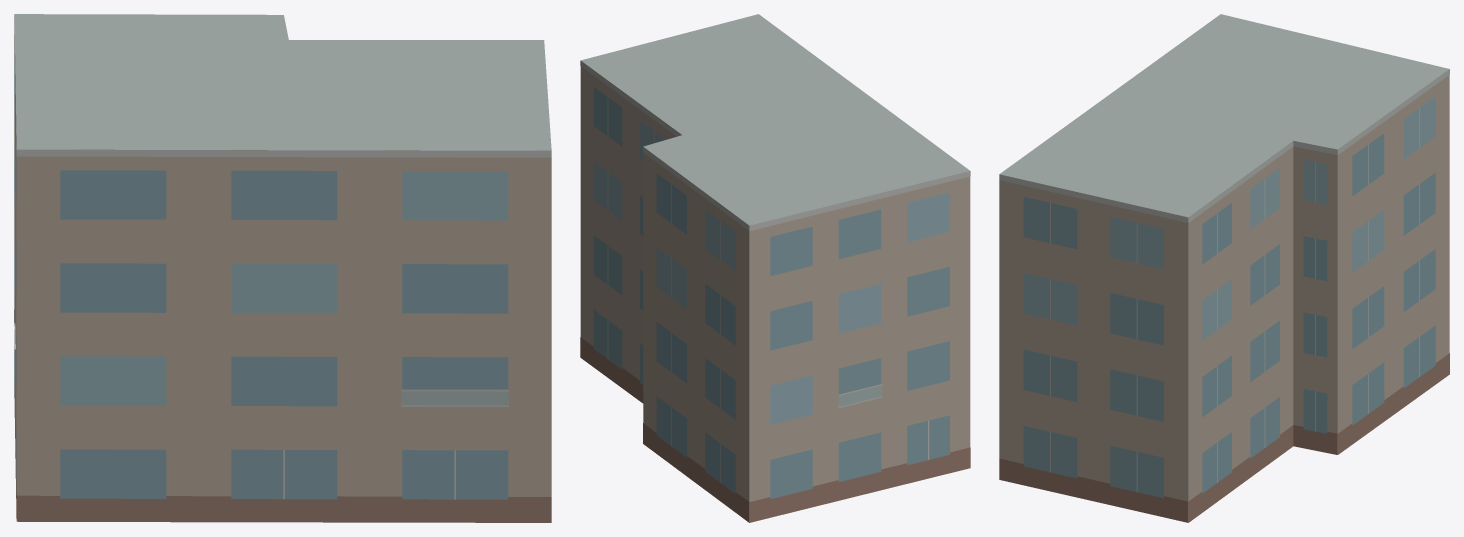
File: survey-upis-32690597.glb
3 views of the same model, side by side, from view 1: azimuth 30°, elevation 25°; view 2: azimuth 150°, elevation 25°; view 3: azimuth 270°, elevation 25° (orthographic). The views are drawn at different scales.
Parts seen in each view (by area): view 1: survey-upis-32690597.tmp; view 2: survey-upis-32690597.tmp; view 3: survey-upis-32690597.tmp.
Part boxes in pixels (box(x1,y1,x2,y2)): survey-upis-32690597.tmp: box(14, 14, 551, 522); survey-upis-32690597.tmp: box(580, 14, 970, 522); survey-upis-32690597.tmp: box(999, 14, 1449, 522).
Size of the model in its own units: 18.65 by 13.05 by 17.45.
